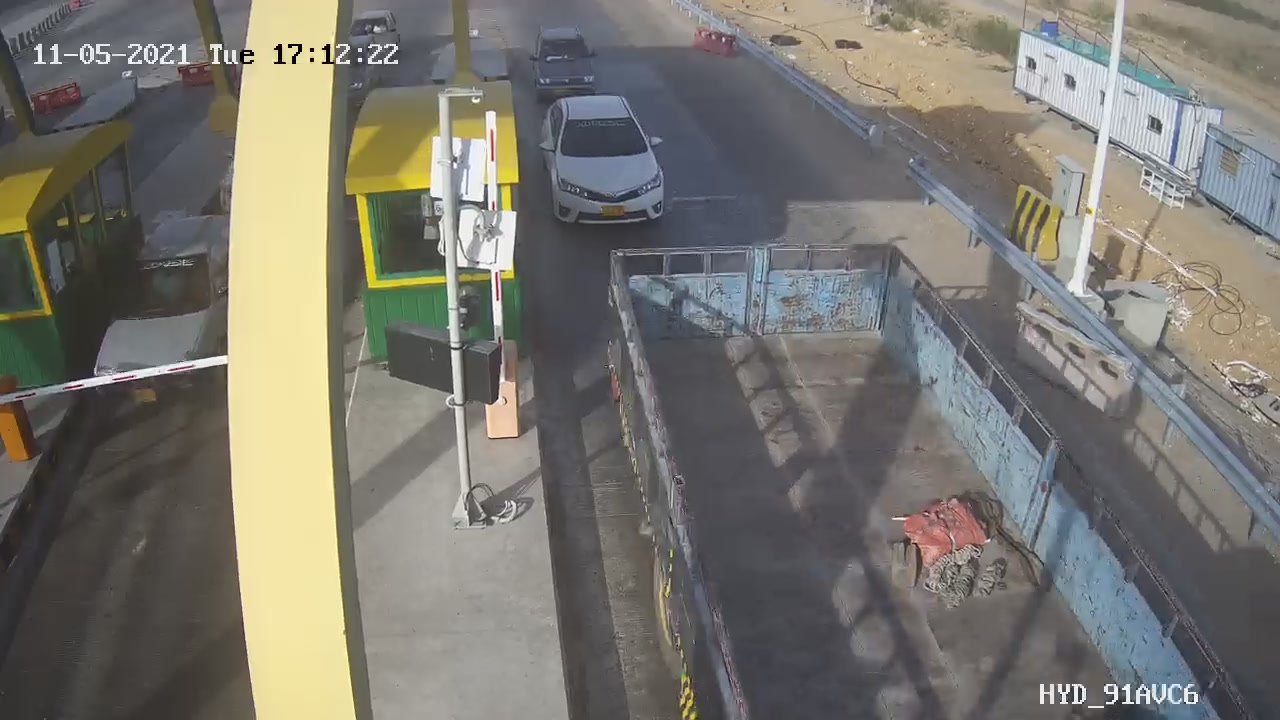F1: (524, 85, 691, 240)
